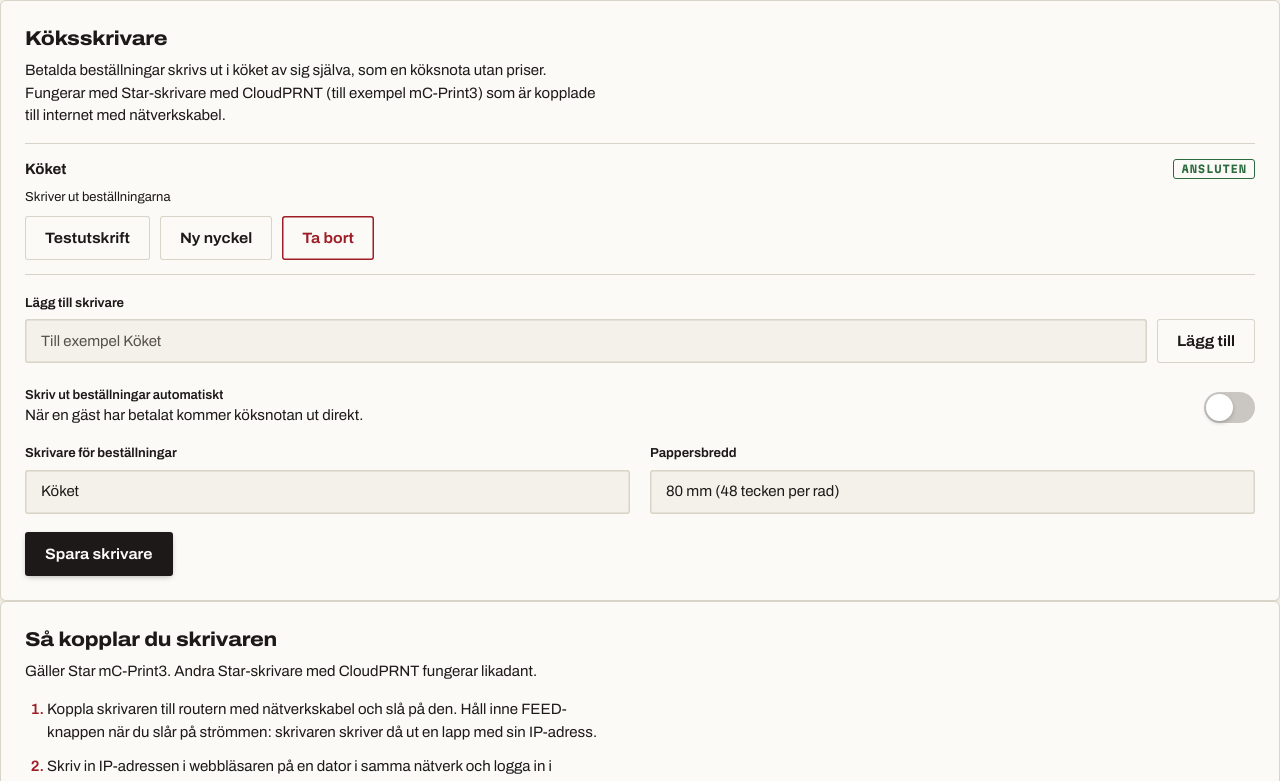
PrinterCard › removes a printer after confirming and explains conflicts
The width and height of the screenshot is (1280, 781).
Click the button "Ta bort" at point(328, 238), box [282,216,374,260]
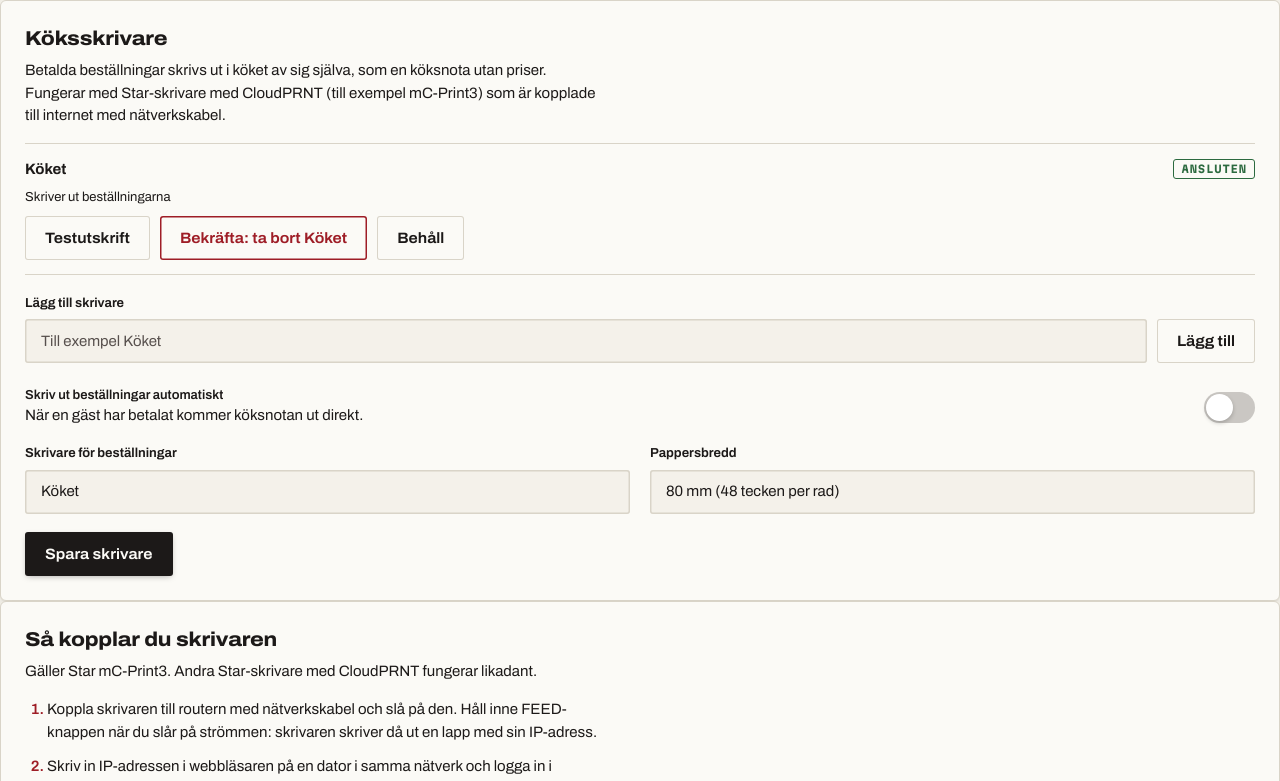
Click the button "Bekräfta: ta bort Köket" at point(264, 238), box [160,216,367,260]
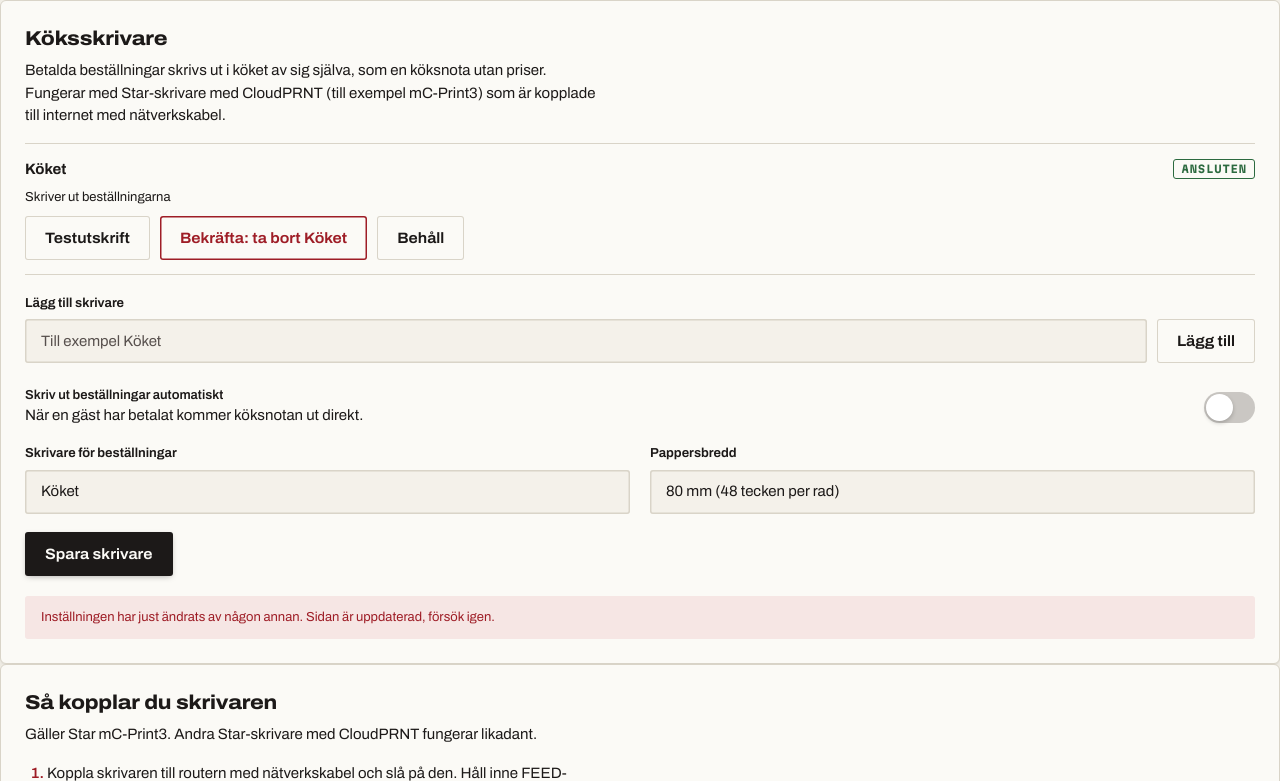
Expected: the text "har just ändrats av någon annan" is shown, [41,610,495,624]
